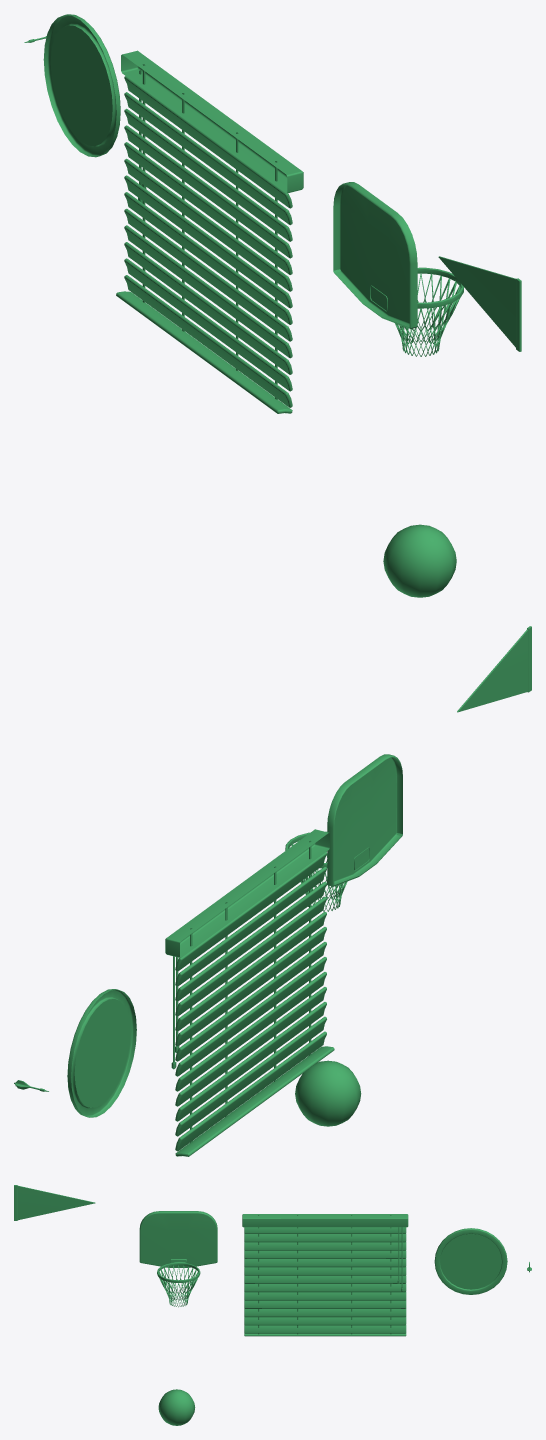
File: MMM_wall_decor.fbx
The picture shows the model from 3 angles, top to bottom: view 1: azimuth 30°, elevation 25°; view 2: azimuth 150°, elevation 25°; view 3: azimuth 270°, elevation 25°; orthographic projection. The views are drawn at different scales.
Parts seen in each view (by area): view 1: window_blinds, basketball_hoop2, dart_board, basketball, pennant; view 2: window_blinds, basketball_hoop2, dart_board, basketball, pennant; view 3: window_blinds, basketball_hoop2, dart_board, pennant, basketball.
Part boxes in pixels (<box>): window_blinds: <box>116,50,303,413</box>; basketball_hoop2: <box>333,182,463,356</box>; dart_board: <box>43,14,120,157</box>; basketball: <box>383,524,456,597</box>; pennant: <box>438,256,521,351</box>; window_blinds: <box>165,829,334,1156</box>; basketball_hoop2: <box>285,754,402,911</box>; dart_board: <box>67,989,136,1117</box>; basketball: <box>295,1060,361,1126</box>; pennant: <box>457,626,531,712</box>; window_blinds: <box>242,1214,408,1336</box>; basketball_hoop2: <box>139,1211,217,1307</box>; dart_board: <box>434,1228,507,1294</box>; pennant: <box>14,1185,95,1220</box>; basketball: <box>158,1389,195,1425</box>.
Size of the model in its own units: 529 by 1960 by 4109.
